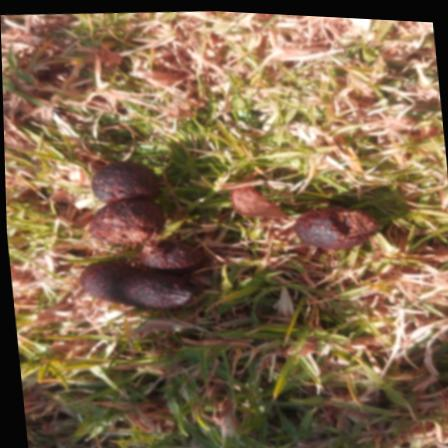dog-poop: (76, 154, 213, 321), (291, 195, 383, 260)
